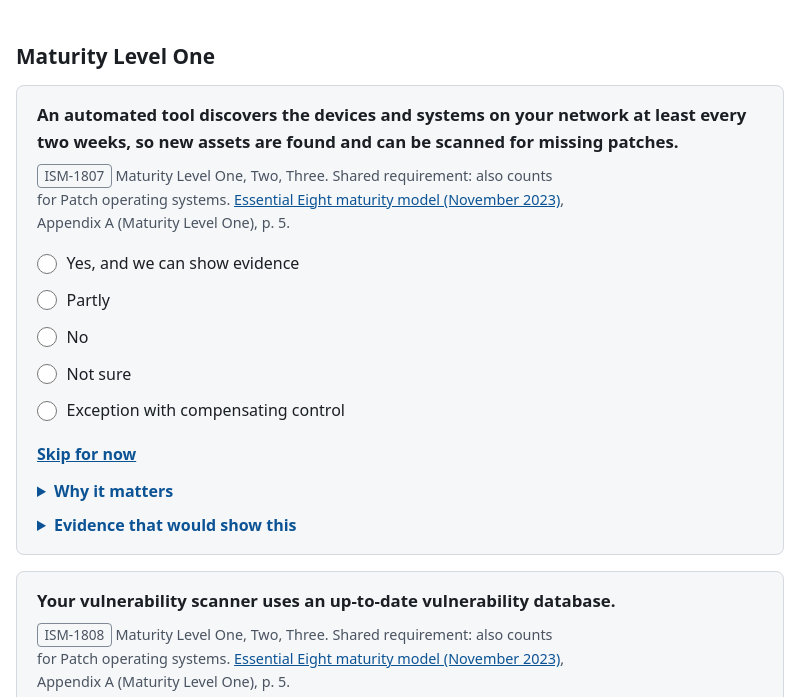
assessment wizard › asks a shared control once and shows the answer under the other strategies
(page scrolled)
Click the radio button labelled "No". click: (47, 337)
box: top-left (37, 327), bottom-right (57, 347)
(page scrolled)
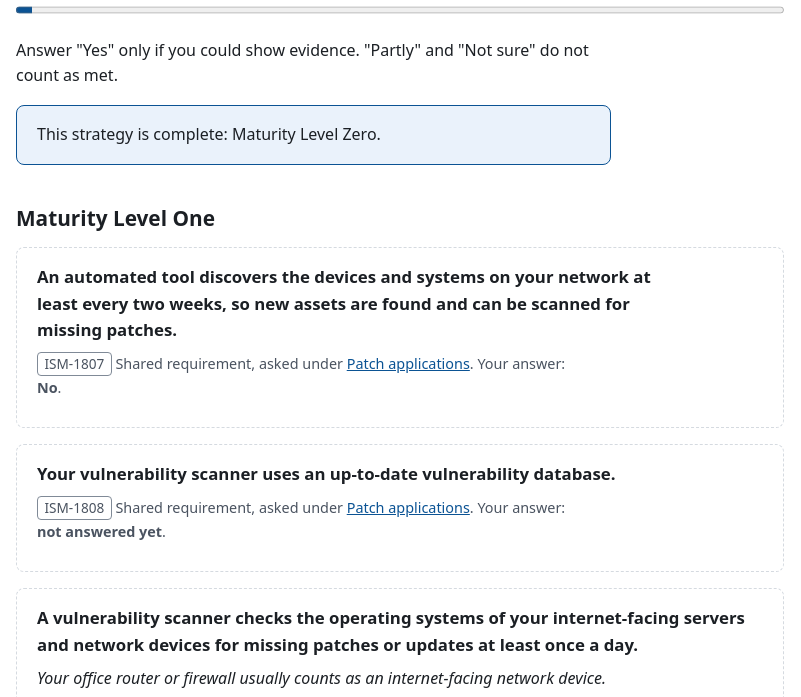
Now the text "An automated tool discovers" shows "Shared requirement, asked under Patch applications", box top-left (16, 247), bottom-right (784, 428)
Now the text "An automated tool discovers" shows "Your answer: No", box top-left (16, 247), bottom-right (784, 428)
